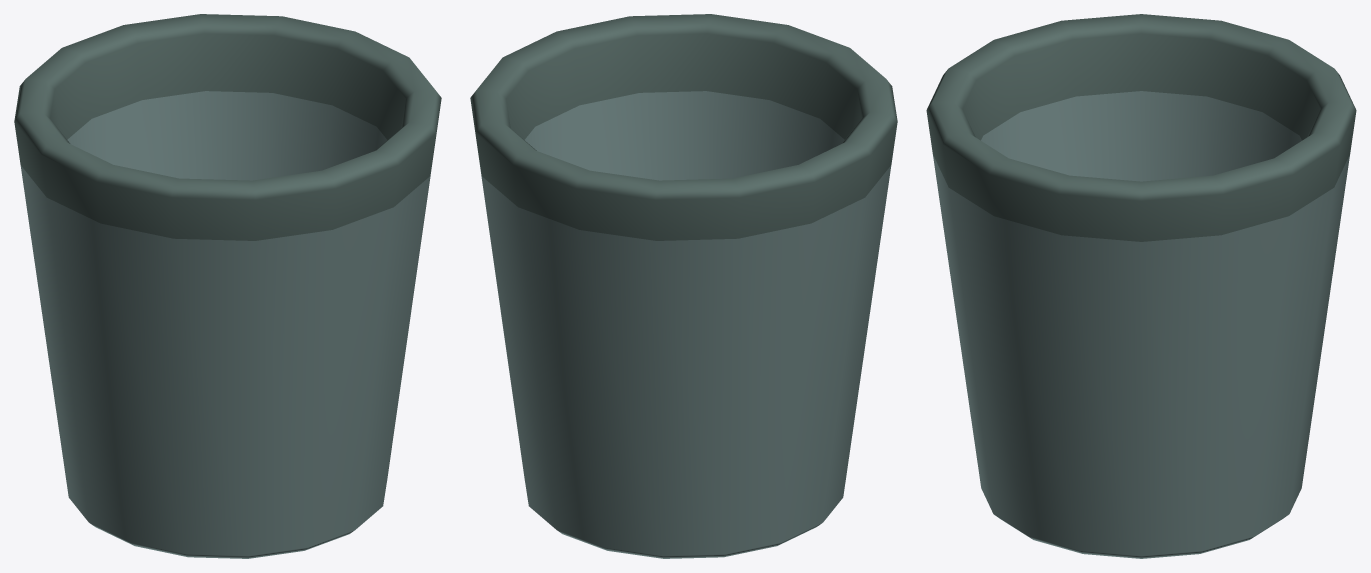
Rendered from Trashcan.fbx.
3 views of the same model, side by side, from view 1: azimuth 30°, elevation 25°; view 2: azimuth 150°, elevation 25°; view 3: azimuth 270°, elevation 25° (orthographic).
Parts seen in each view (by area): view 1: Trashcan; view 2: Trashcan; view 3: Trashcan.
Boxes of the visible parts, <box> form: Trashcan: <box>14,14,441,558</box>; Trashcan: <box>470,14,897,558</box>; Trashcan: <box>926,14,1356,558</box>.
Size of the model in its own units: 77.73 by 79.47 by 77.73.
